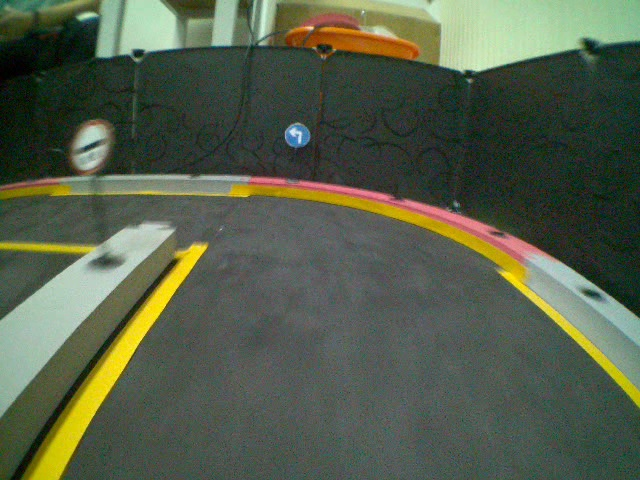Check: (68, 118, 113, 172)
turn: (284, 119, 313, 152)
